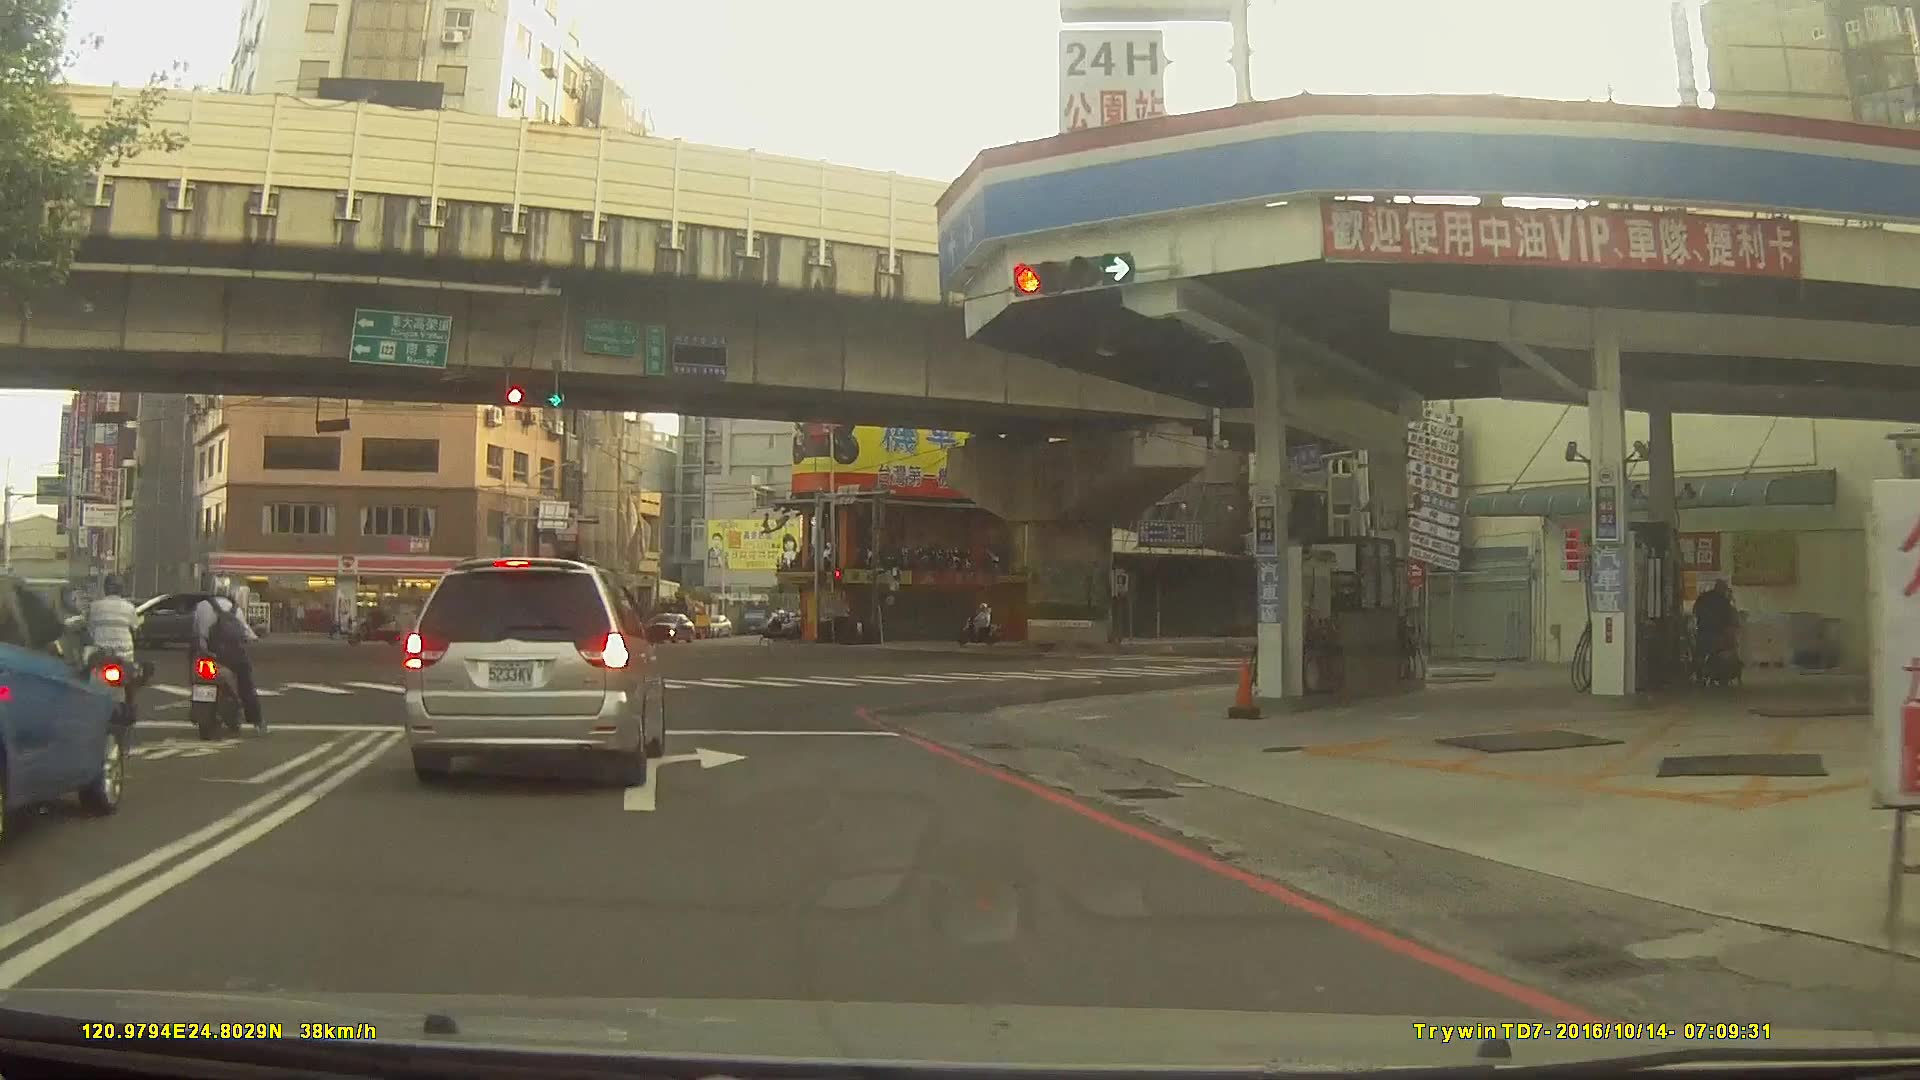rider: (187, 576, 263, 744), (81, 576, 152, 742), (341, 595, 405, 650), (960, 604, 997, 647)
vehicle: (401, 557, 669, 788), (0, 569, 124, 840), (90, 590, 244, 648), (543, 606, 605, 633)
